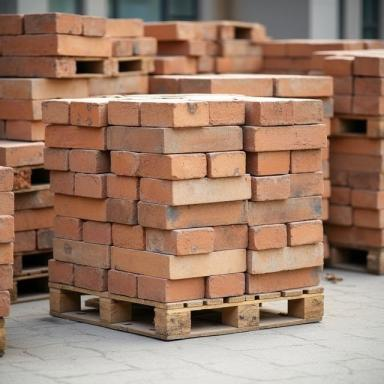pallet: (48, 282, 324, 340), (60, 293, 99, 314), (190, 308, 222, 328), (132, 302, 155, 323)
